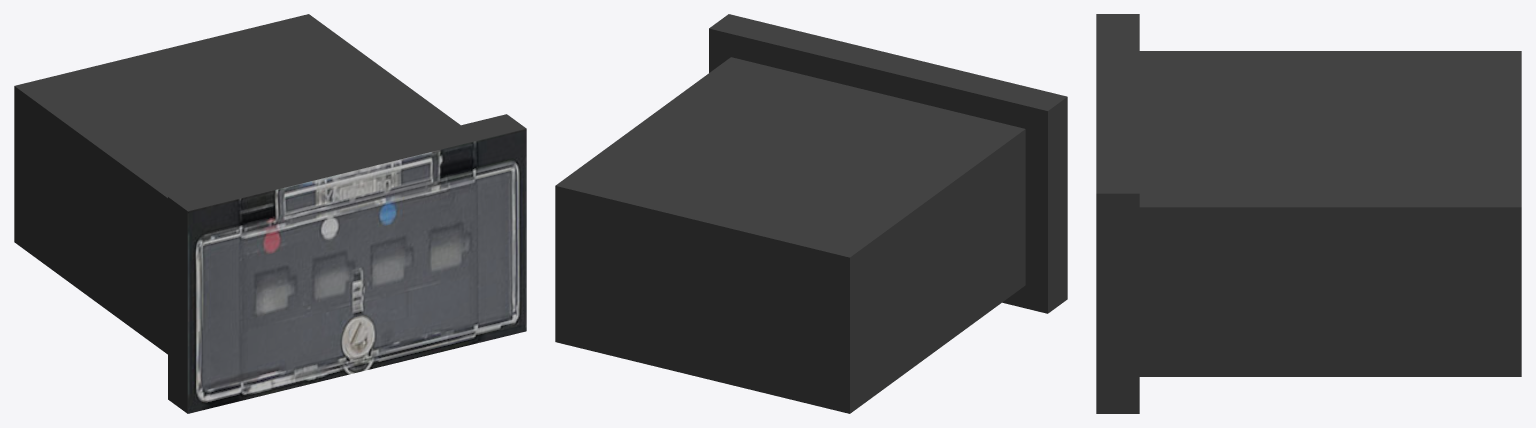
Rendered from CTT.gltf.
3 renders of one model, left to right at view 1: azimuth 30°, elevation 25°; view 2: azimuth 150°, elevation 25°; view 3: azimuth 270°, elevation 25°, orthographic. The views are drawn at different scales.
Parts seen in each view (by area): view 1: CTT; view 2: CTT; view 3: CTT.
Part boxes in pixels (box(x1,y1,x2,y2)): CTT: box(14, 14, 526, 413); CTT: box(555, 14, 1067, 413); CTT: box(1096, 14, 1521, 413).
Bounding box in the file's own units: 0.07 × 0.04 × 0.07.
Materials: 2 (1 with a texture image).
